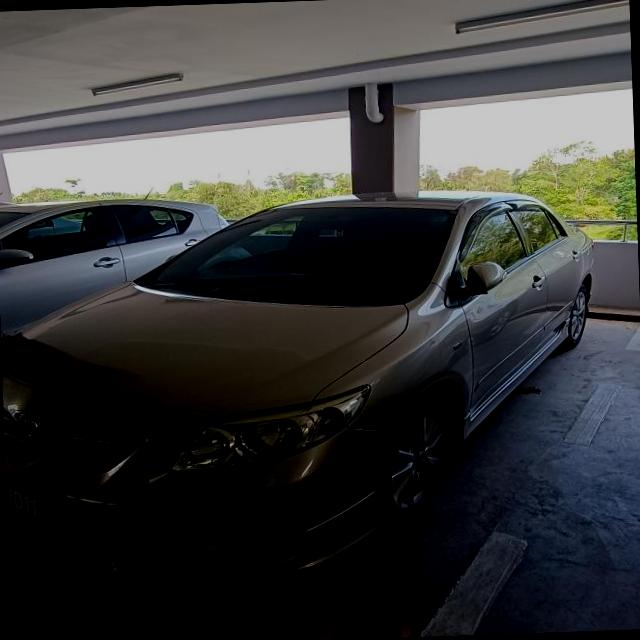ToyotaVios: (0, 182, 605, 588)
